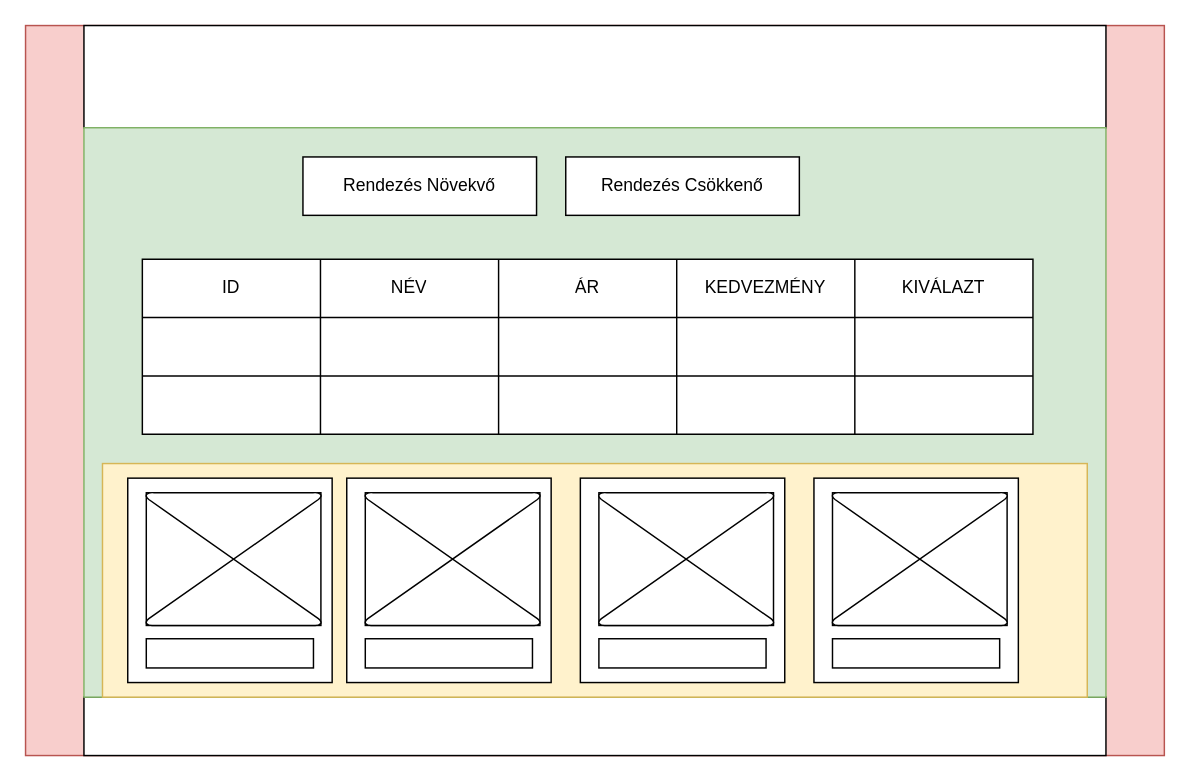
This 1190x781 diagram has some shape labels left out. The box of each missing label's shape, as (x1, y1, x2, y2) in pixels:
footer: (82, 696, 1106, 756)
header: (82, 24, 1106, 128)
